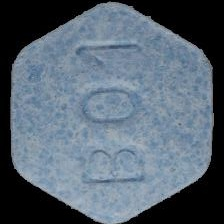63187-319: (0, 0, 224, 224)
